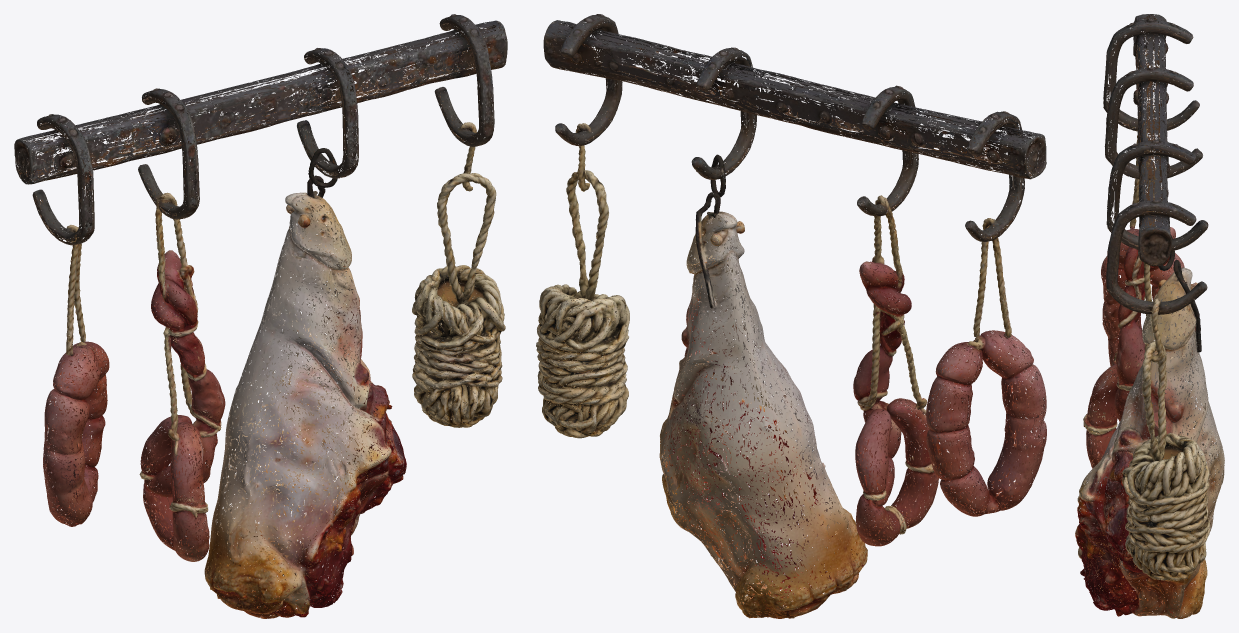
The model's file is Decor_Meat_Rail.glb.
3 views of the same model, side by side, from view 1: azimuth 30°, elevation 25°; view 2: azimuth 150°, elevation 25°; view 3: azimuth 270°, elevation 25° (orthographic). The views are drawn at different scales.
Parts seen in each view (by area): view 1: Decor_Meat_Rail; view 2: Decor_Meat_Rail; view 3: Decor_Meat_Rail.
Boxes of the visible parts, x1,y1,x2,y2 form: Decor_Meat_Rail: (14, 14, 507, 618); Decor_Meat_Rail: (536, 14, 1046, 618); Decor_Meat_Rail: (1075, 14, 1224, 618).
Bounding box in the file's own units: 2 × 2.14 × 0.5804.
1 material, 1 textured.
